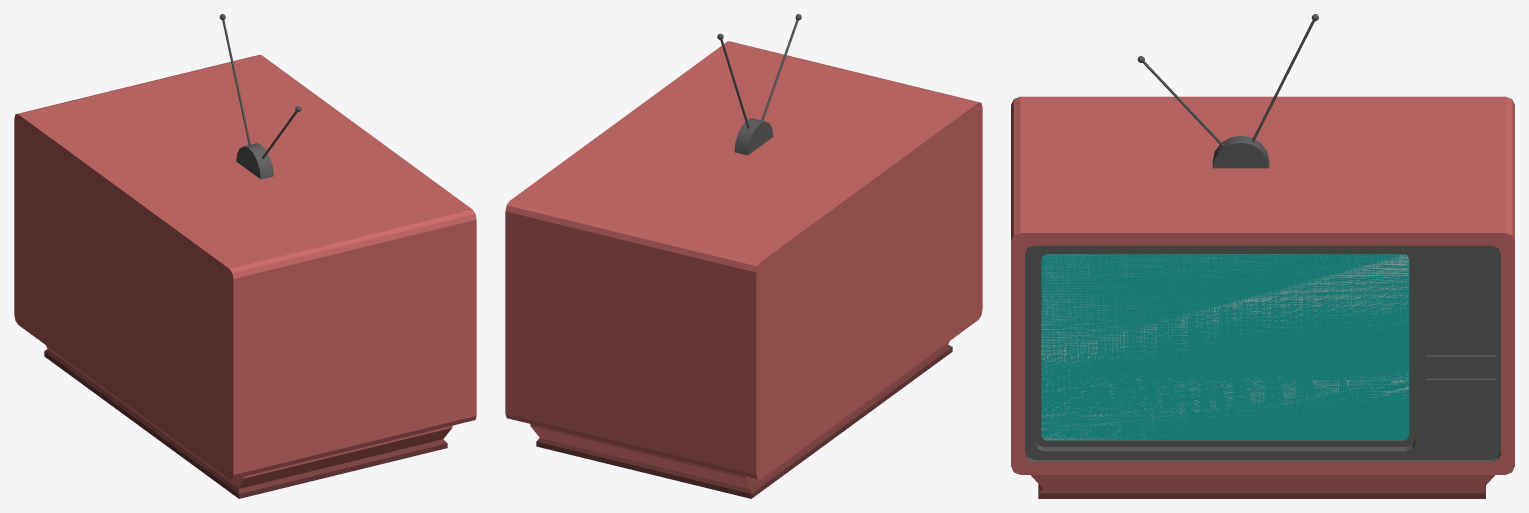
3 renders of one model, left to right at view 1: azimuth 30°, elevation 25°; view 2: azimuth 150°, elevation 25°; view 3: azimuth 270°, elevation 25°, orthographic. The views are drawn at different scales.
Visible parts, largest first — view 1: TV_Main, TV_AntBase; view 2: TV_Main, TV_AntBase; view 3: TV_Main, Plane, TV_AntBase.
Part boxes in pixels (x1=…): TV_Main: x1=14, y1=55, x2=476, y2=498; TV_AntBase: x1=236, y1=143, x2=273, y2=179; TV_Main: x1=505, y1=41, x2=982, y2=498; TV_AntBase: x1=734, y1=118, x2=773, y2=155; TV_Main: x1=1011, y1=96, x2=1514, y2=498; Plane: x1=1041, y1=254, x2=1408, y2=439; TV_AntBase: x1=1212, y1=135, x2=1269, y2=168.
Size of the model in its own units: 178 by 260 by 278.
